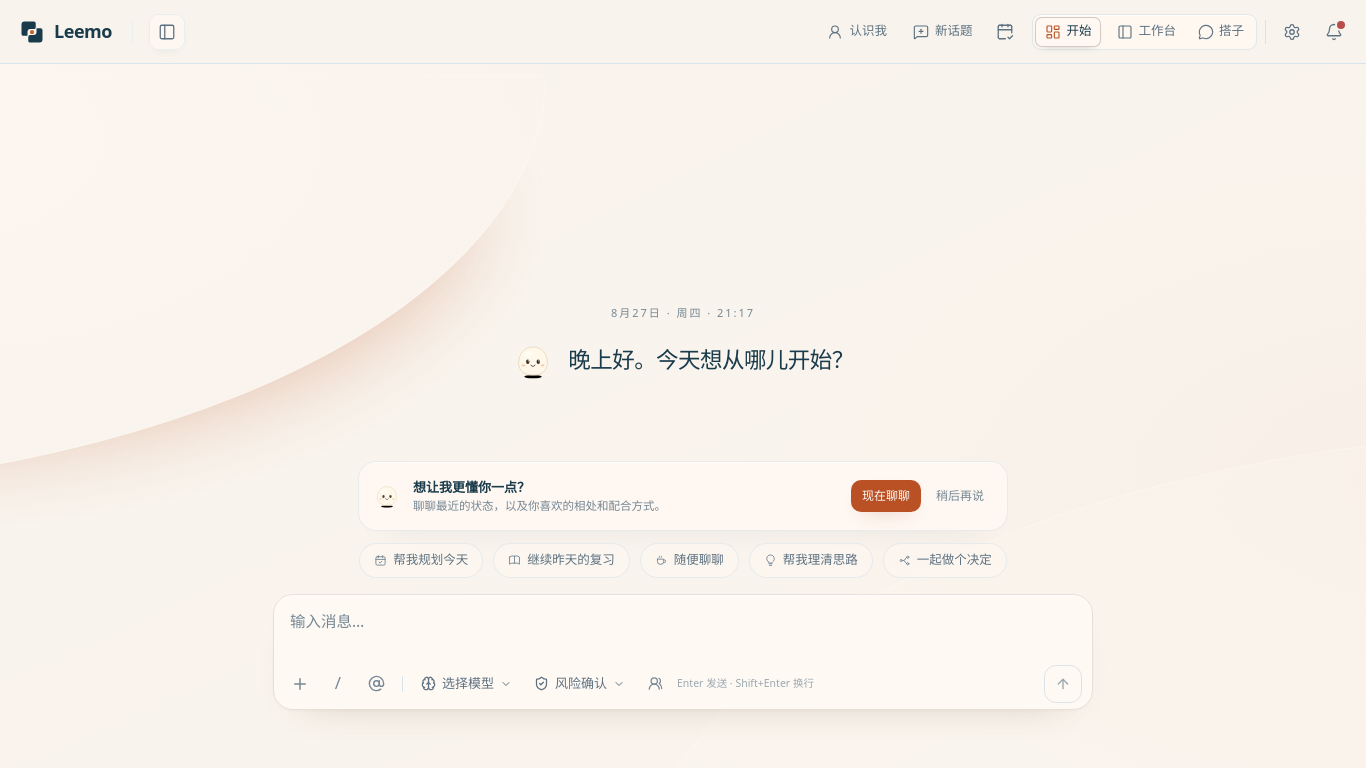
Test case: BuddyShell › creates a first buddy conversation before it sends, then renders both user and reply bubbles
Type "在吗" into the text box with placeholder "输入消息…".
click(683, 627); type("在吗")  # box x1=274 y1=595 x2=1092 y2=659
Then press Enter
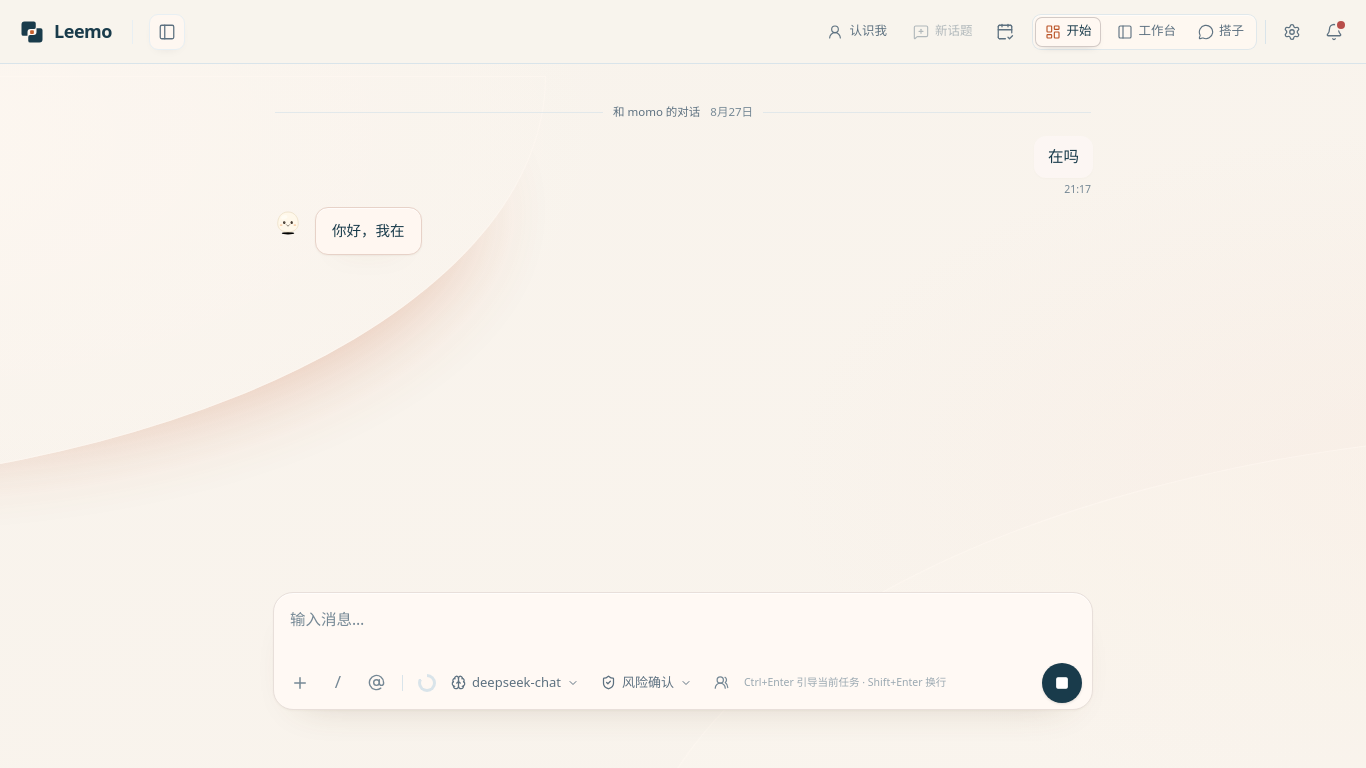
expect the text "在吗" is shown: met, box x1=1048 y1=144 x2=1079 y2=170
expect the text "你好，我在" is shown: met, box x1=332 y1=218 x2=404 y2=244
